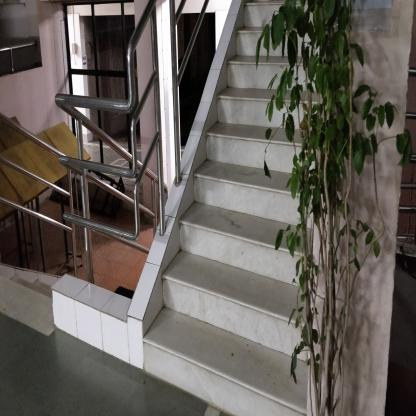stairs: (197, 189, 295, 416)
